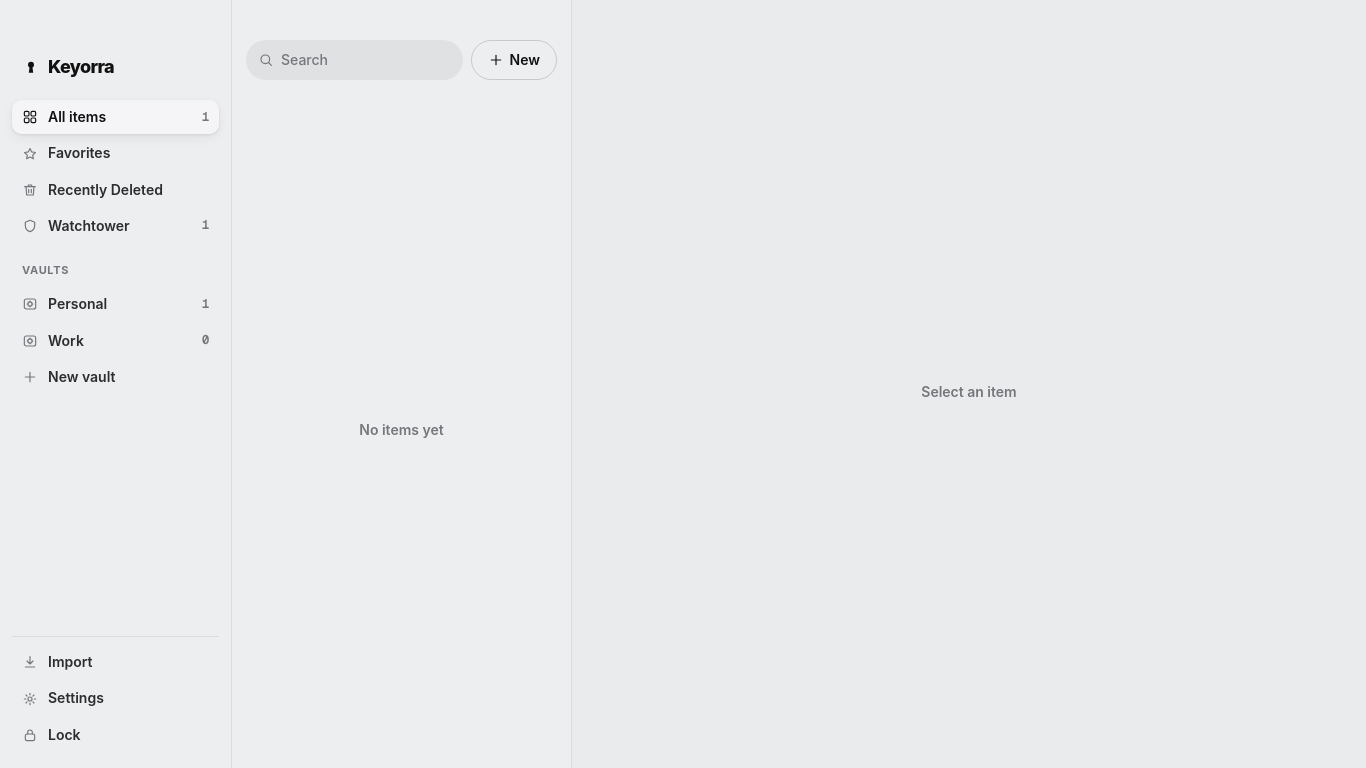
Scenario: a stale items reply does not overwrite a newer one
Type "g" into the search field labelled "Search". click: (354, 60)
box: [246,40,462,80]
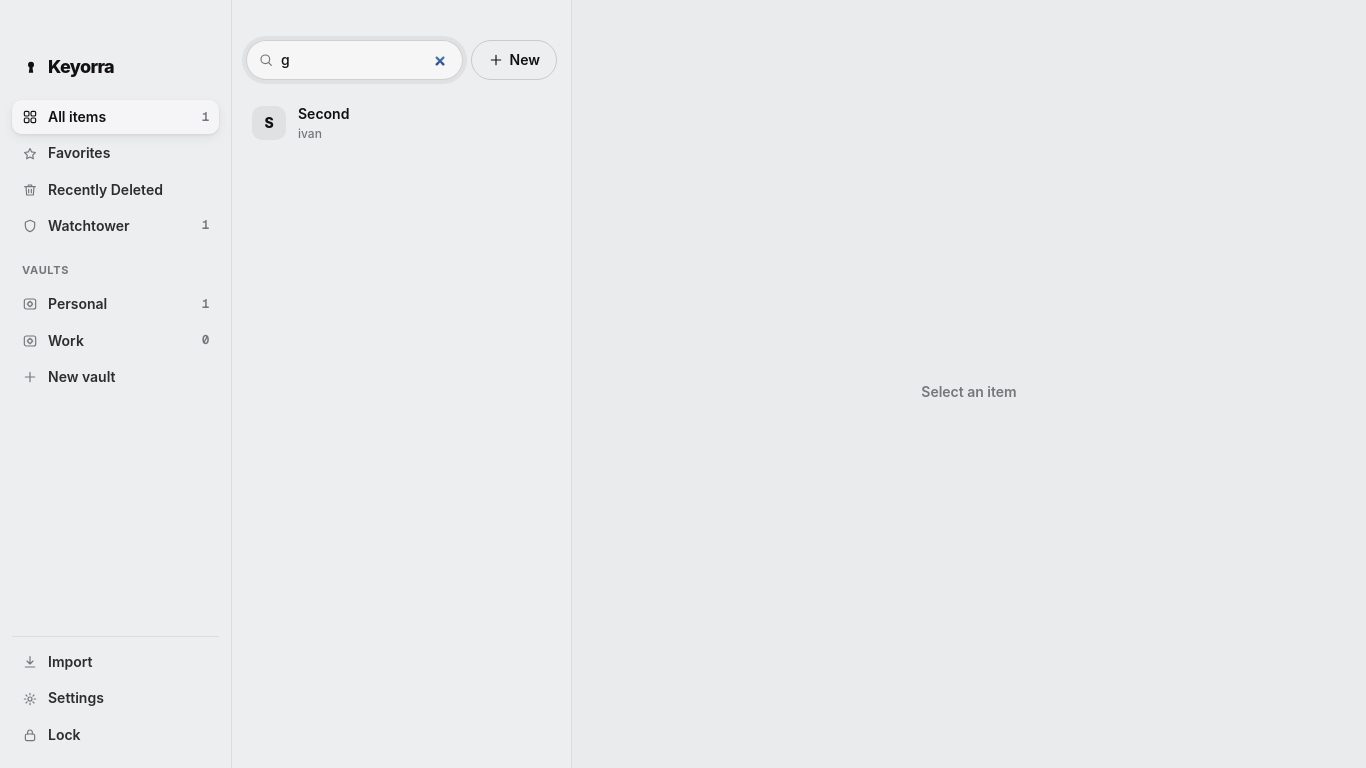
Expected: the text "Second" is shown, [298,104,349,125]
